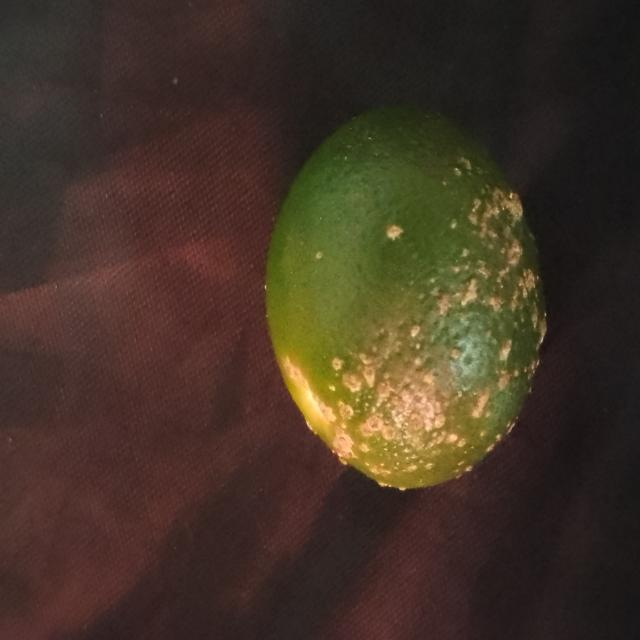scab: (263, 92, 548, 496)
